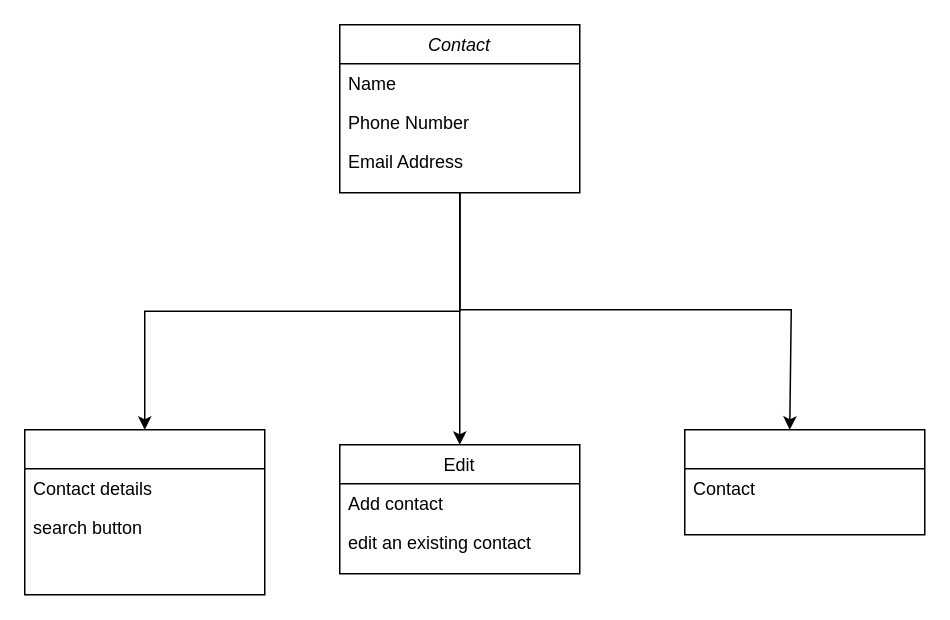
Some shapes in this 950 by 620 pixel diagram are drawn without their labels. The shapes that lost their labels are listed below. From the top down, each one's box as (x1, y1, x2, y2) in pixels, then its label:
(683, 428, 925, 535): Delete
(23, 428, 265, 595): View
